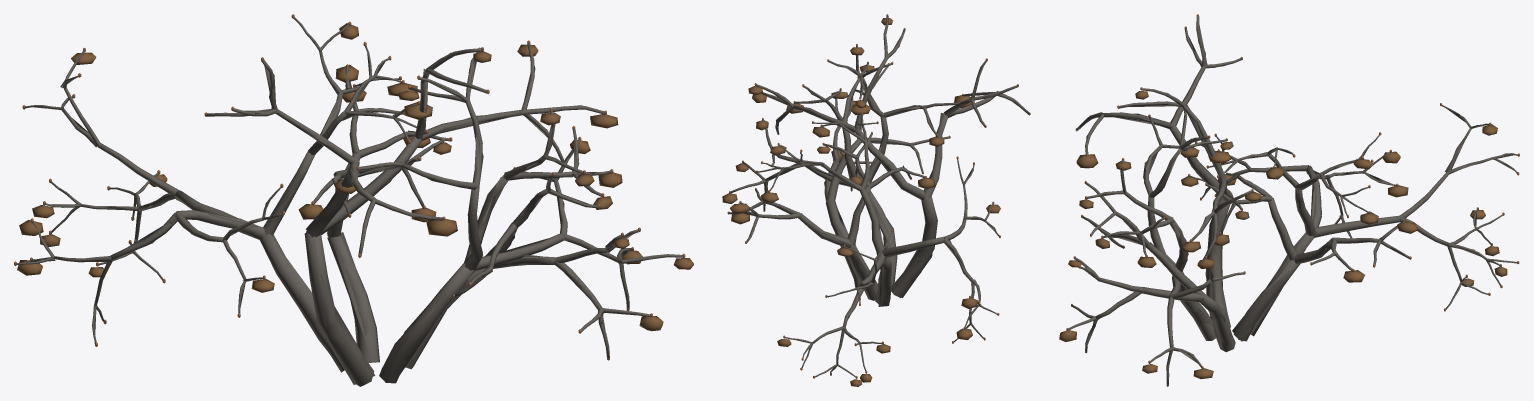
Rendered from scrub_oak_4.glb.
3 renders of one model, left to right at view 1: azimuth 30°, elevation 25°; view 2: azimuth 150°, elevation 25°; view 3: azimuth 270°, elevation 25°, orthographic. The views are drawn at different scales.
Visible parts, largest first — view 1: ScrubOak_Far_Bark, ScrubOak_LimbWood_2, ScrubOak_LimbWood_3, ScrubOak_LimbWood_4, ScrubOak_LimbWood_1, ScrubOak_LimbWood_0; view 2: ScrubOak_Far_Bark, ScrubOak_LimbWood_2, ScrubOak_LimbWood_3, ScrubOak_LimbWood_4, ScrubOak_LimbWood_1, ScrubOak_LimbWood_0; view 3: ScrubOak_Far_Bark, ScrubOak_LimbWood_2, ScrubOak_LimbWood_3, ScrubOak_LimbWood_4, ScrubOak_LimbWood_1, ScrubOak_LimbWood_0.
Boxes of the visible parts, left/top/right/bottom form: ScrubOak_Far_Bark: left=26, top=23, right=664, bottom=384; ScrubOak_LimbWood_2: left=16, top=17, right=425, bottom=353; ScrubOak_LimbWood_3: left=206, top=42, right=605, bottom=386; ScrubOak_LimbWood_4: left=358, top=51, right=683, bottom=383; ScrubOak_LimbWood_1: left=313, top=66, right=450, bottom=362; ScrubOak_LimbWood_0: left=405, top=174, right=651, bottom=369; ScrubOak_Far_Bark: left=741, top=34, right=1017, bottom=376; ScrubOak_LimbWood_2: left=757, top=107, right=999, bottom=377; ScrubOak_LimbWood_3: left=756, top=15, right=1029, bottom=297; ScrubOak_LimbWood_4: left=730, top=46, right=960, bottom=285; ScrubOak_LimbWood_1: left=728, top=133, right=925, bottom=300; ScrubOak_LimbWood_0: left=824, top=66, right=949, bottom=287; ScrubOak_Far_Bark: left=1079, top=25, right=1515, bottom=367; ScrubOak_LimbWood_2: left=1190, top=105, right=1518, bottom=334; ScrubOak_LimbWood_3: left=1076, top=16, right=1252, bottom=327; ScrubOak_LimbWood_4: left=1086, top=109, right=1244, bottom=385; ScrubOak_LimbWood_1: left=1206, top=173, right=1410, bottom=341; ScrubOak_LimbWood_0: left=1068, top=182, right=1235, bottom=352.
Size of what is drawn, in the model's own units: 4.27 by 2.82 by 4.24.
